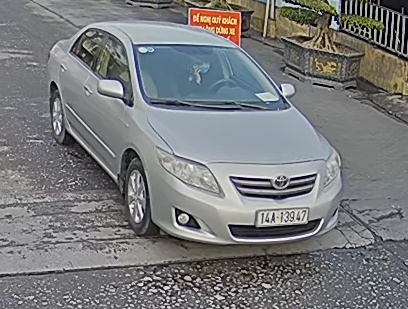vehicle plate: (252, 207, 310, 225)
